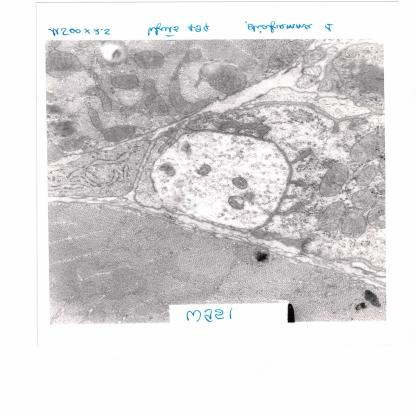mitochondria: (169, 49, 211, 116), (117, 79, 169, 116), (193, 61, 247, 94), (348, 127, 386, 164), (267, 39, 305, 70), (318, 163, 350, 197), (315, 200, 350, 231), (46, 49, 81, 79), (101, 124, 139, 144), (340, 210, 367, 238), (350, 186, 380, 211), (84, 86, 112, 112), (133, 50, 166, 69), (366, 197, 385, 228), (354, 164, 379, 186), (58, 135, 90, 152), (109, 74, 140, 90), (86, 107, 105, 131), (158, 162, 178, 178), (227, 195, 245, 210), (231, 176, 248, 189), (194, 164, 212, 176)
